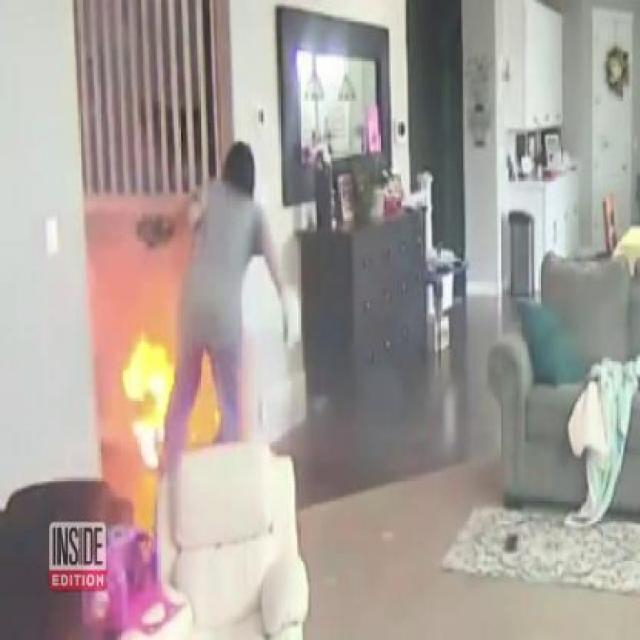fire: (107, 311, 256, 487)
